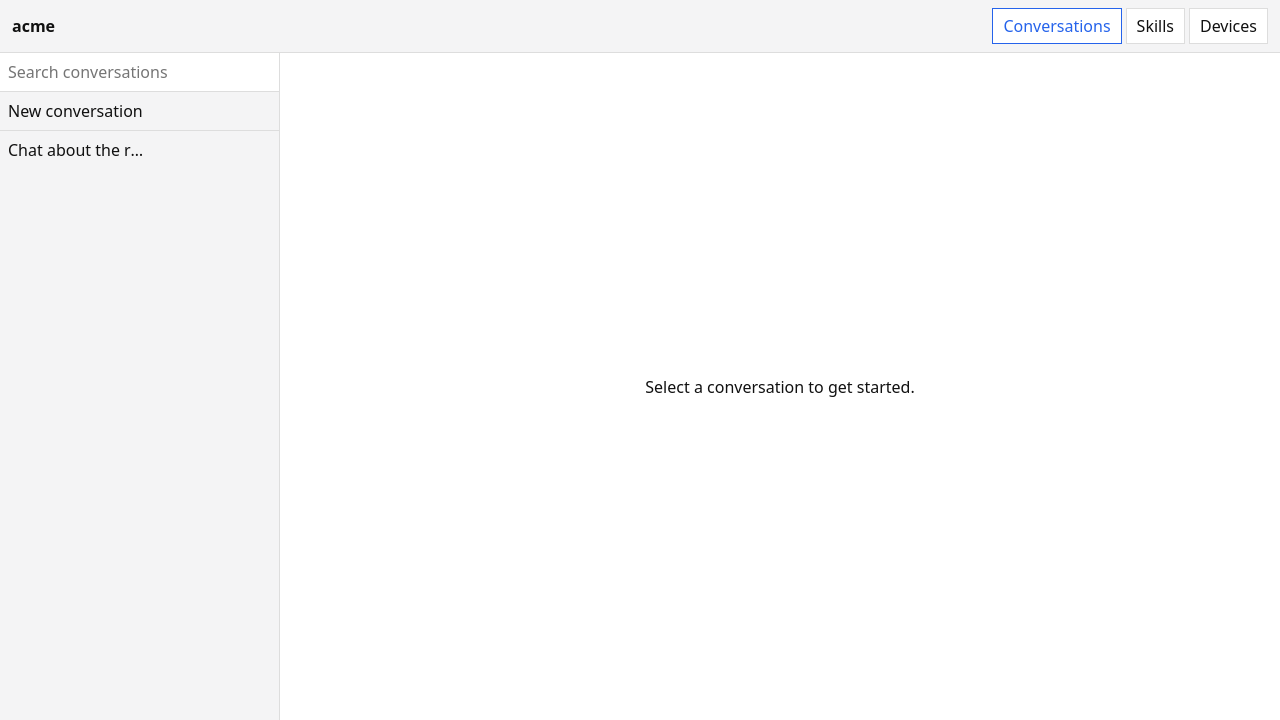
it: Shell › tasks panel (D3) › offers no tasks toggle until a conversation is open
The image size is (1280, 720).
Step 1. Click the button "Chat about the roadmap" → {"x": 79, "y": 150}, box [0,131,159,169]
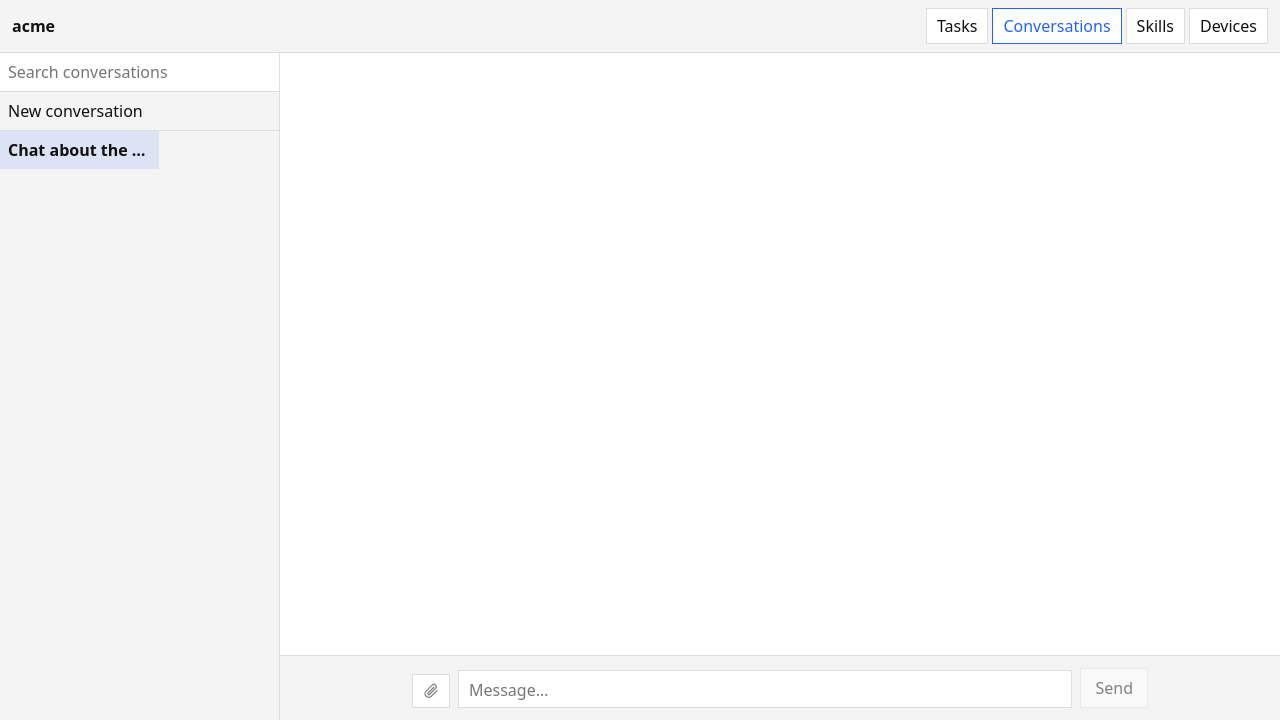
Now the button with test id "tasks-panel-toggle" is shown, box [926,8,988,44]
